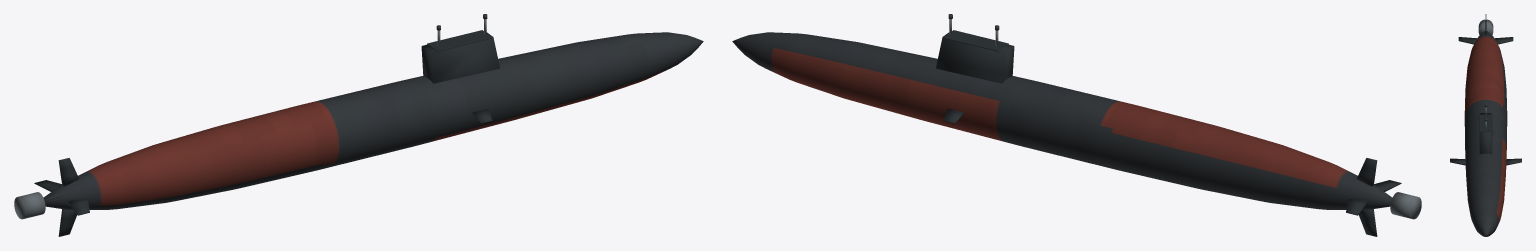
File: FR_SSN_Suffren_LOD1.fbx
3 views of the same model, side by side, from view 1: azimuth 30°, elevation 25°; view 2: azimuth 150°, elevation 25°; view 3: azimuth 270°, elevation 25° (orthographic). The views are drawn at different scales.
Visible parts, largest first — view 1: FR_SSN_Suffren_LOD1; view 2: FR_SSN_Suffren_LOD1; view 3: FR_SSN_Suffren_LOD1.
Boxes of the visible parts, x1,y1,x2,y2 form: FR_SSN_Suffren_LOD1: (14,14,703,236); FR_SSN_Suffren_LOD1: (732,14,1421,236); FR_SSN_Suffren_LOD1: (1450,14,1521,236).
Bounding box in the file's own units: 103 × 14.87 × 16.93.
Materials: 6 (1 with a texture image).
